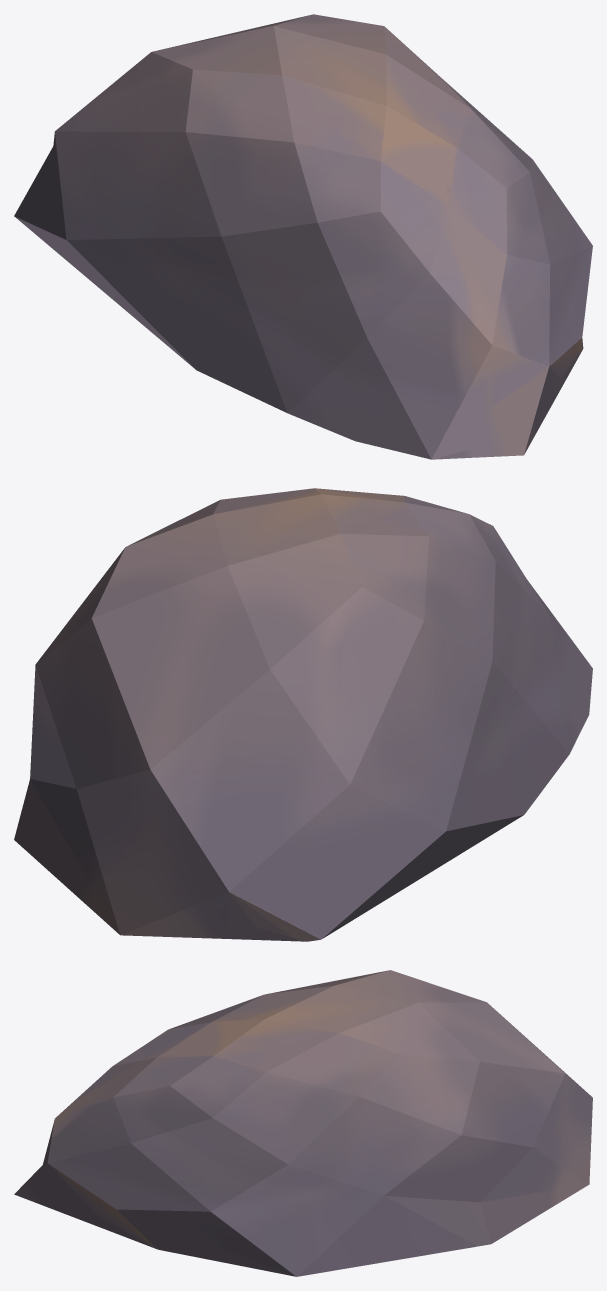
The model's file is Rock4.obj.
The picture shows the model from 3 angles, top to bottom: view 1: azimuth 30°, elevation 25°; view 2: azimuth 150°, elevation 25°; view 3: azimuth 270°, elevation 25°; orthographic projection. The views are drawn at different scales.
Visible parts, largest first — view 1: Rock2_Cube; view 2: Rock2_Cube; view 3: Rock2_Cube.
Part boxes in pixels (x1,y1,x2,y2): Rock2_Cube: (14,14,592,459); Rock2_Cube: (14,488,592,941); Rock2_Cube: (14,970,592,1276).
Size of the model in its own units: 2.04 by 1.13 by 3.05.
